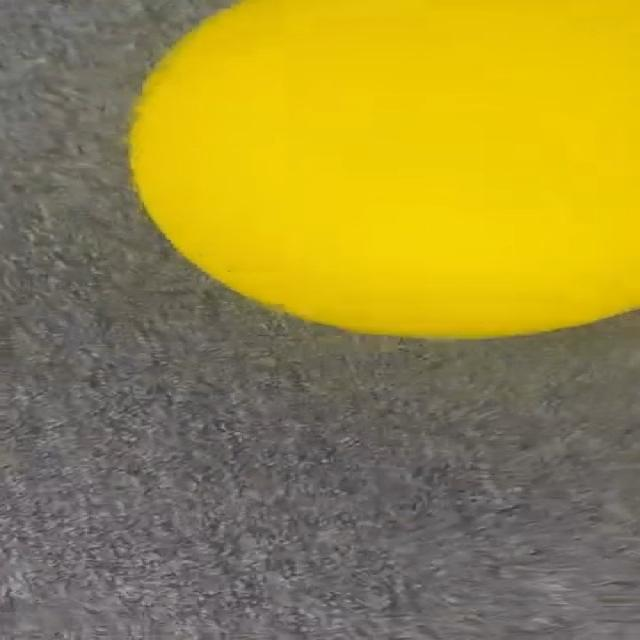Fuels: (132, 0, 635, 337)
